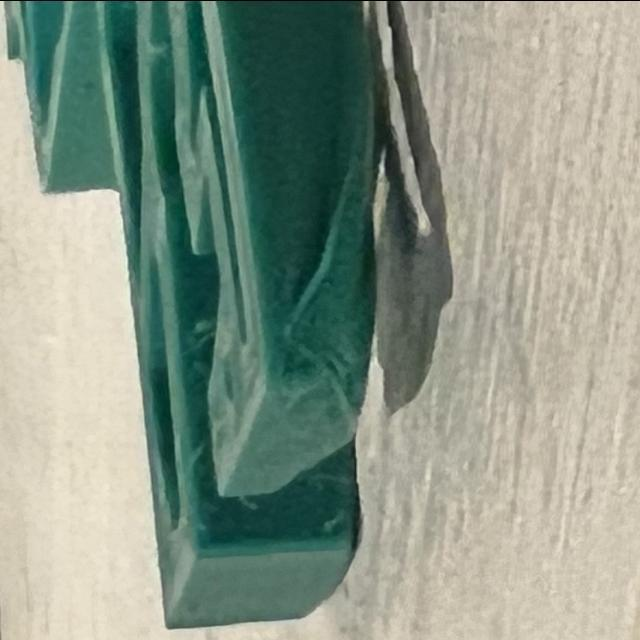Warping: (286, 34, 406, 382)
